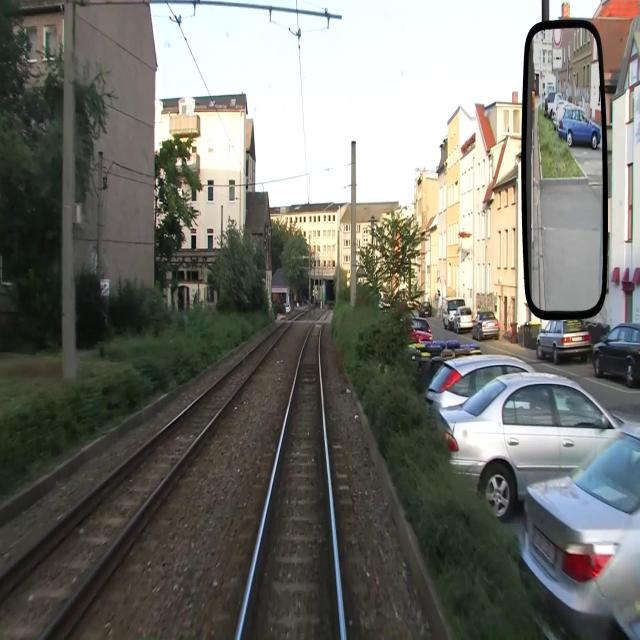rail-track: (0, 319, 291, 639), (239, 309, 341, 639)
